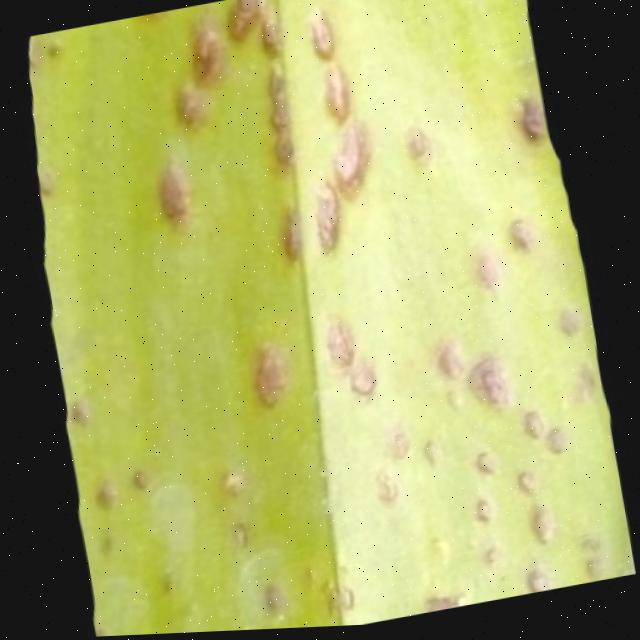mite: (228, 545, 300, 632), (254, 580, 288, 624), (402, 125, 435, 170)
spots: (1, 0, 637, 637)
